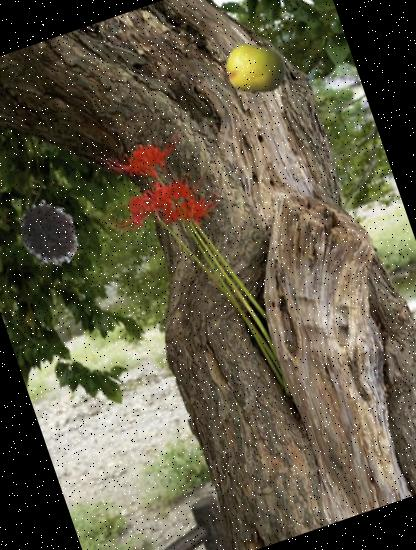Pomelo: (217, 30, 296, 108)
Rambutan: (10, 192, 90, 274)
